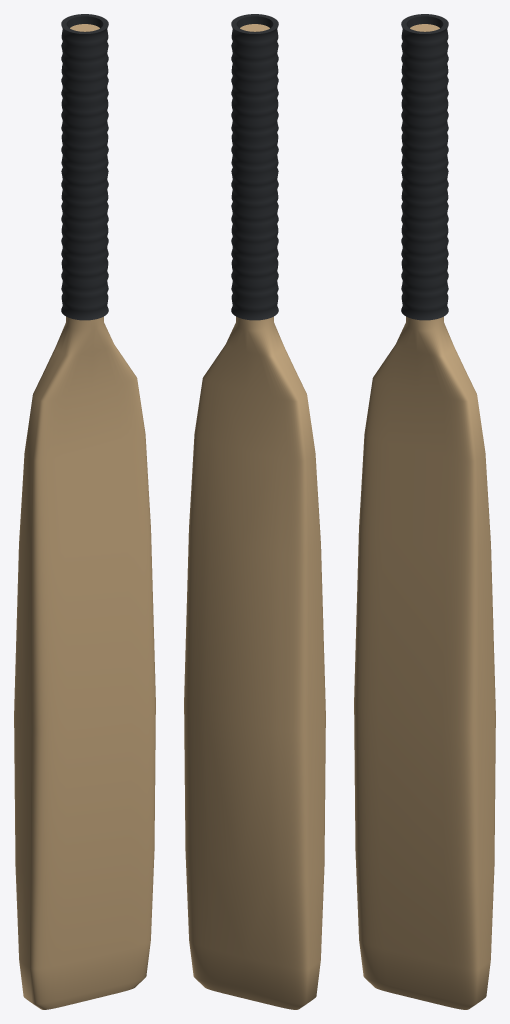
The picture shows the model from 3 angles, left to right: view 1: azimuth 30°, elevation 25°; view 2: azimuth 150°, elevation 25°; view 3: azimuth 330°, elevation 25°; orthographic projection.
Visible parts, largest first — view 1: Flat striking blade with raised rear spine, Closed ribbed rubber grip sleeve; view 2: Flat striking blade with raised rear spine, Closed ribbed rubber grip sleeve; view 3: Flat striking blade with raised rear spine, Closed ribbed rubber grip sleeve.
Boxes of the visible parts, x1,y1,x2,y2 form: Flat striking blade with raised rear spine: (14, 24, 155, 1009); Closed ribbed rubber grip sleeve: (61, 14, 108, 320); Flat striking blade with raised rear spine: (184, 24, 325, 1009); Closed ribbed rubber grip sleeve: (231, 14, 278, 320); Flat striking blade with raised rear spine: (354, 24, 495, 1009); Closed ribbed rubber grip sleeve: (401, 14, 448, 320).
Bounding box in the file's own units: 0.112 × 0.845 × 0.0558.
